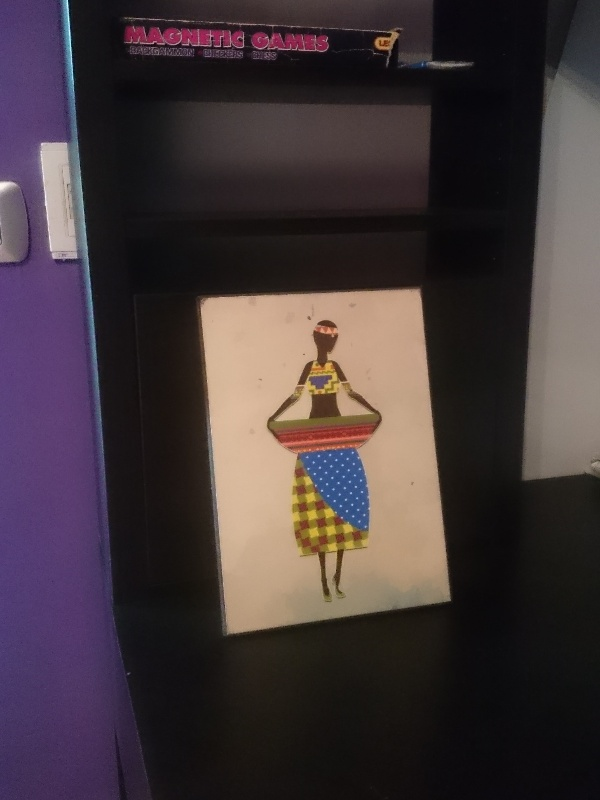my image: (197, 288, 451, 637)
